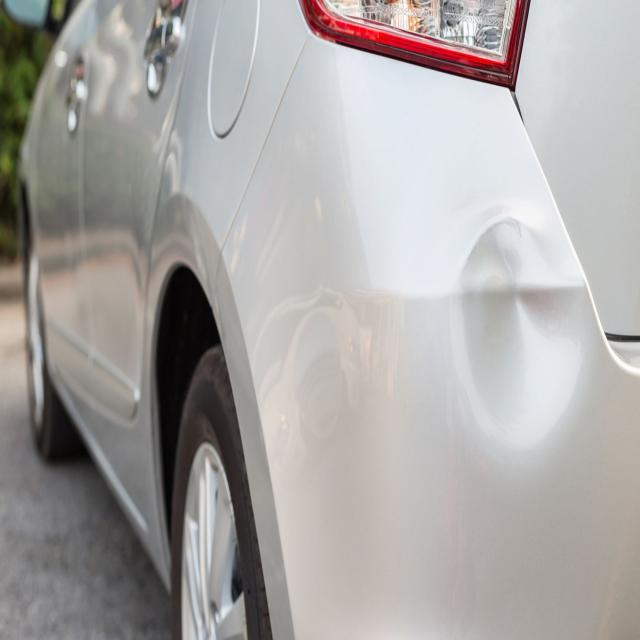dent: (449, 213, 594, 463)
